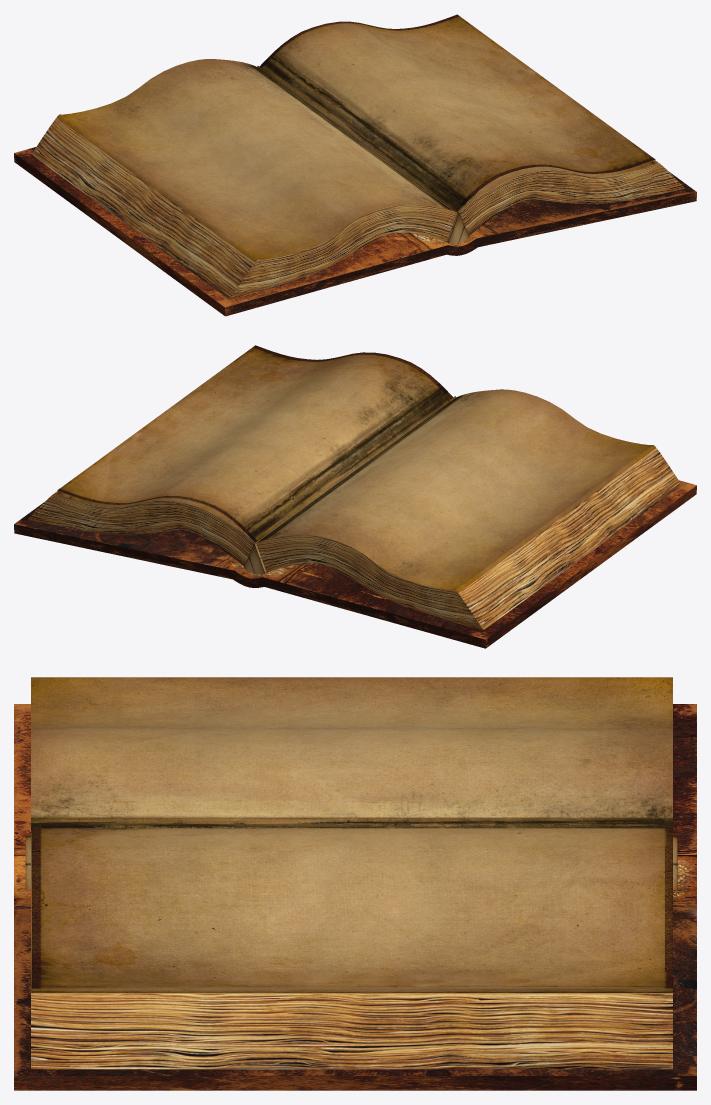
File: PageFlippingBook.FBX
3 views of the same model, one above another, from view 1: azimuth 30°, elevation 25°; view 2: azimuth 150°, elevation 25°; view 3: azimuth 270°, elevation 25° (orthographic). The views are drawn at different scales.
Parts seen in each view (by area): view 1: Line002, Line007, Line006; view 2: Line002, Line007, Line006; view 3: Line002, Line007, Line006.
Part boxes in pixels (box(x1,y1,x2,y2)): Line002: box(31, 59, 684, 299); Line007: box(259, 14, 655, 211); Line006: box(14, 147, 696, 316); Line002: box(28, 389, 681, 630); Line007: box(57, 345, 453, 542); Line006: box(14, 480, 696, 648); Line002: box(31, 677, 672, 1069); Line007: box(31, 828, 672, 988); Line006: box(14, 704, 696, 1090).
Size of the model in its own units: 50.37 by 7.09 by 39.01.
Materials: 3 (2 with a texture image).
